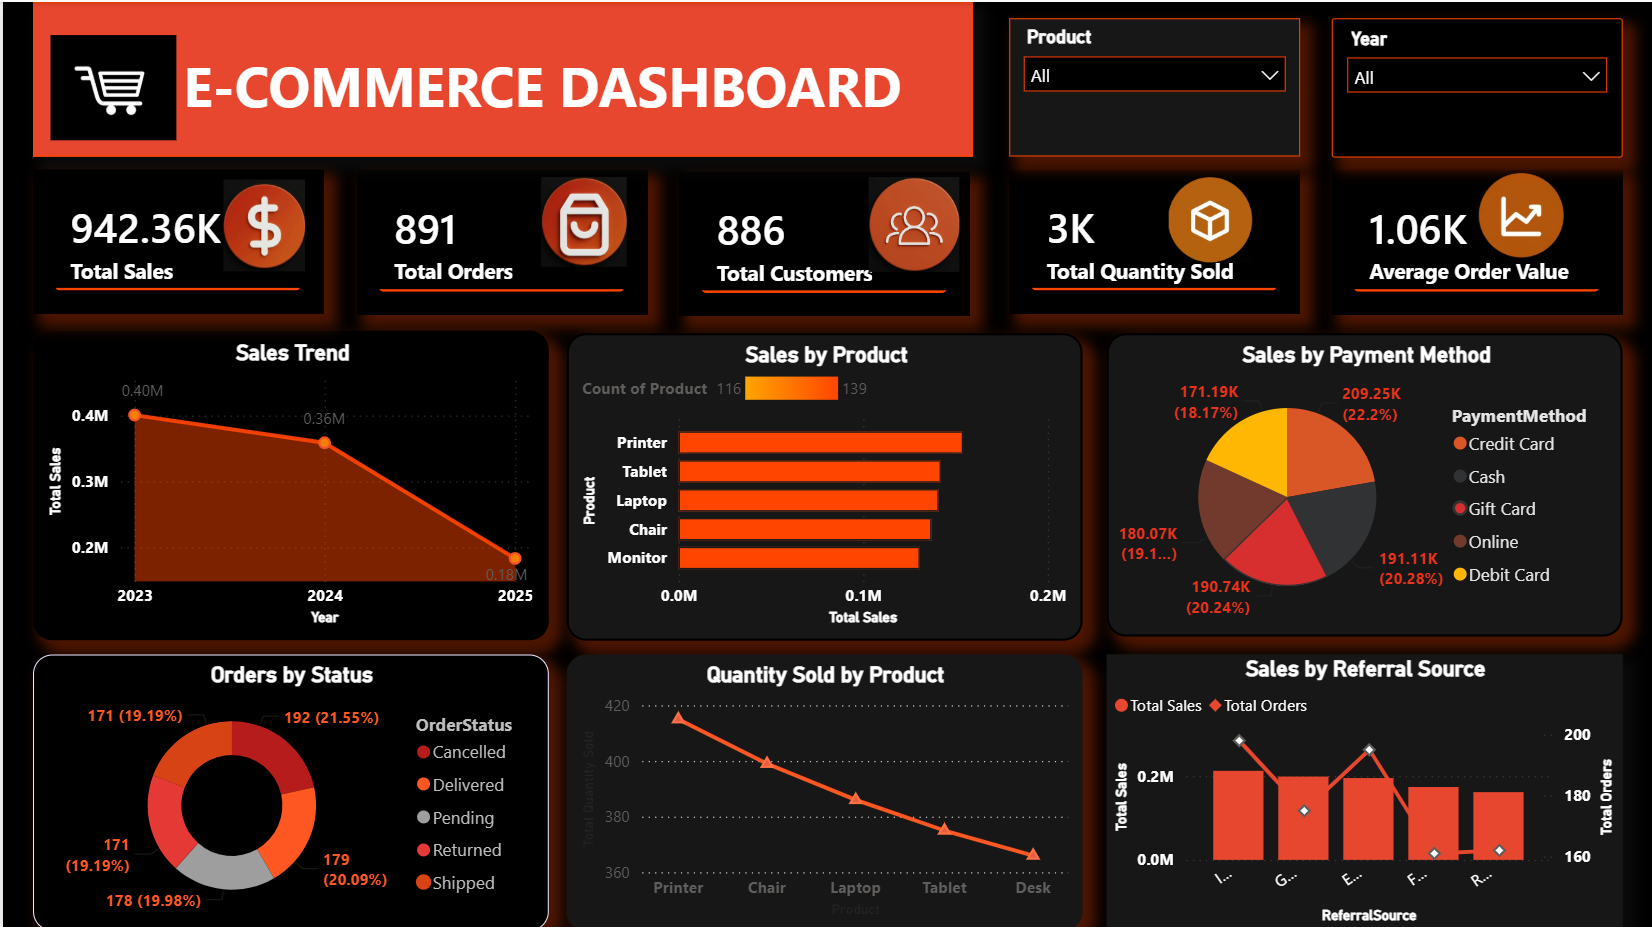

The page's visual inventory and layout, read from the dashboard file:
{"tool":"powerbi","page":{"name":"Page 1","canvas":[1280,720],"ordinal":0},"visuals":[{"type":"cardVisual","fields":{"Data":["E-Commerce Orders.Total Orders"]},"box":[274.4,130.2,225.7,112.9],"z":0},{"type":"cardVisual","fields":{"Data":["E-Commerce Orders.Total Customers"]},"box":[524.4,131.4,225.7,111.7],"z":1000},{"type":"cardVisual","fields":{"Data":["E-Commerce Orders.Total Quantity Sold"]},"box":[780.2,130.2,225.7,111.7],"z":2000},{"type":"cardVisual","fields":{"Data":["E-Commerce Orders.Average Order Value"]},"box":[1030.2,130.2,225.7,112.9],"z":3000},{"type":"lineChart","title":"Sales Trend","fields":{"Y":["E-Commerce Orders.Total Sales"],"Category":["Calendar.Date.Variation.Date Hierarchy.Year"]},"box":[23.3,254.7,399.8,240.2],"z":4000},{"type":"clusteredBarChart","title":"Sales by Product","fields":{"Category":["E-Commerce Orders.Product"],"Y":["E-Commerce Orders.Total Sales"]},"box":[437.4,257,400,238.3],"z":5000},{"type":"donutChart","title":" Orders by Status","fields":{"Category":["E-Commerce Orders.OrderStatus"],"Y":["E-Commerce Orders.Total Orders"]},"box":[23.3,505.8,400,214.5],"z":6000},{"type":"pieChart","title":"Sales by Payment Method","fields":{"Category":["E-Commerce Orders.PaymentMethod"],"Y":["E-Commerce Orders.Total Sales"]},"box":[856.2,257,400,234.9],"z":7000},{"type":"lineStackedColumnComboChart","title":"Sales by Referral Source","fields":{"Category":["E-Commerce Orders.ReferralSource"],"Y":["E-Commerce Orders.Total Sales"],"Y2":["E-Commerce Orders.Total Orders"]},"box":[856.2,505.5,400,214.5],"z":8000},{"type":"lineChart","title":"Quantity Sold by Product","fields":{"Category":["E-Commerce Orders.Product"],"Y":["E-Commerce Orders.Total Quantity Sold"]},"box":[437.4,505.5,400,214.5],"z":9000},{"type":"shape","box":[23.3,0,729.1,119.8],"z":10000},{"type":"image","box":[37.2,4.7,97.4,123.5],"z":11000},{"type":"textbox","box":[134.9,30.2,645.4,70.9],"z":12000},{"type":"cardVisual","fields":{"Data":["E-Commerce Orders.Total Sales"]},"box":[23.3,130.2,225.7,111.7],"z":13000},{"type":"image","box":[145.3,137.2,114,70.9],"z":14000},{"type":"image","box":[401.2,136,98.8,69.8],"z":15000},{"type":"image","box":[650,136,111.6,73.3],"z":16000},{"type":"image","box":[893,136,87.2,66.3],"z":17000},{"type":"image","box":[1134.9,131.4,82.6,67.4],"z":18000},{"type":"slicer","fields":{"Values":["E-Commerce Orders.Product"]},"box":[780.2,12.8,225.6,107],"z":19000},{"type":"slicer","fields":{"Values":["Calendar.Date.Variation.Date Hierarchy.Year"]},"box":[1030.2,12.8,225.6,108.1],"z":20000}]}

Visuals, with their boxes in screenshot pixels (x1, y1, x2, y2), scaled from the page's 1280x720 canvas onto the 1652x927 screenshot:
cardVisual - E-Commerce Orders.Total Orders: <bbox>354, 168, 645, 313</bbox>
cardVisual - E-Commerce Orders.Total Customers: <bbox>677, 169, 968, 313</bbox>
cardVisual - E-Commerce Orders.Total Quantity Sold: <bbox>1007, 168, 1298, 311</bbox>
cardVisual - E-Commerce Orders.Average Order Value: <bbox>1330, 168, 1621, 313</bbox>
"Sales Trend" lineChart: <bbox>30, 328, 546, 637</bbox>
"Sales by Product" clusteredBarChart: <bbox>565, 331, 1081, 638</bbox>
" Orders by Status" donutChart: <bbox>30, 651, 546, 926</bbox>
"Sales by Payment Method" pieChart: <bbox>1105, 331, 1621, 633</bbox>
"Sales by Referral Source" lineStackedColumnComboChart: <bbox>1105, 651, 1621, 926</bbox>
"Quantity Sold by Product" lineChart: <bbox>565, 651, 1081, 926</bbox>
shape: <bbox>30, 0, 971, 154</bbox>
image: <bbox>48, 6, 174, 165</bbox>
textbox: <bbox>174, 39, 1007, 130</bbox>
cardVisual - E-Commerce Orders.Total Sales: <bbox>30, 168, 321, 311</bbox>
image: <bbox>188, 177, 335, 268</bbox>
image: <bbox>518, 175, 645, 265</bbox>
image: <bbox>839, 175, 983, 269</bbox>
image: <bbox>1153, 175, 1265, 260</bbox>
image: <bbox>1465, 169, 1571, 256</bbox>
slicer - E-Commerce Orders.Product: <bbox>1007, 16, 1298, 154</bbox>
slicer - Calendar.Date.Variation.Date Hierarchy.Year: <bbox>1330, 16, 1621, 156</bbox>
